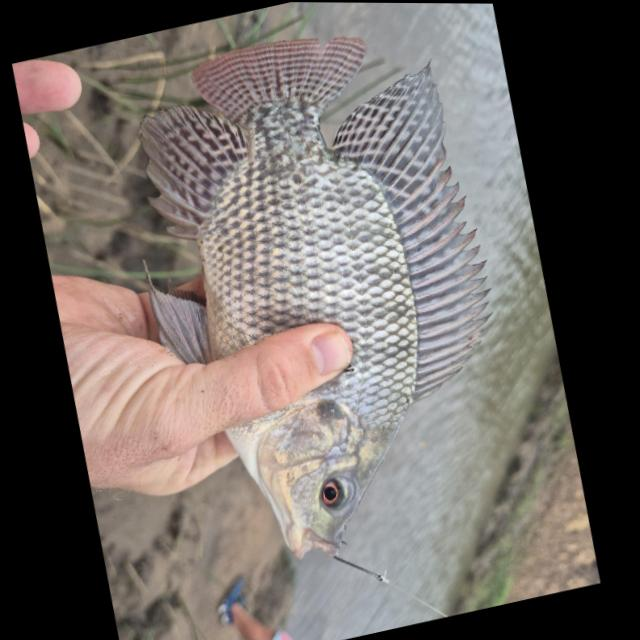Tilapia: (88, 2, 553, 583)
